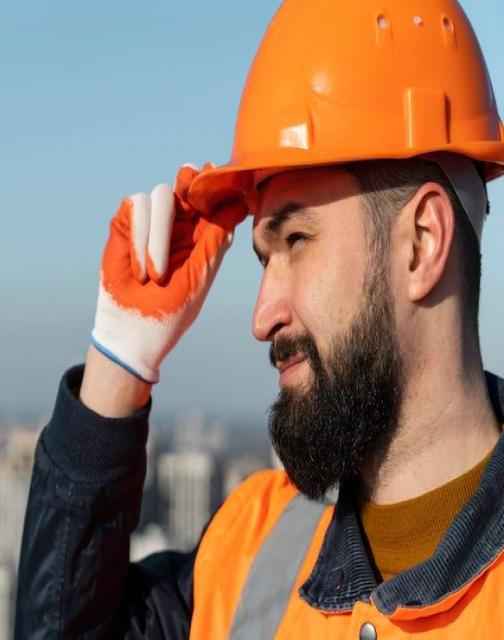hat: (138, 1, 504, 251)
vest: (189, 396, 504, 640)
